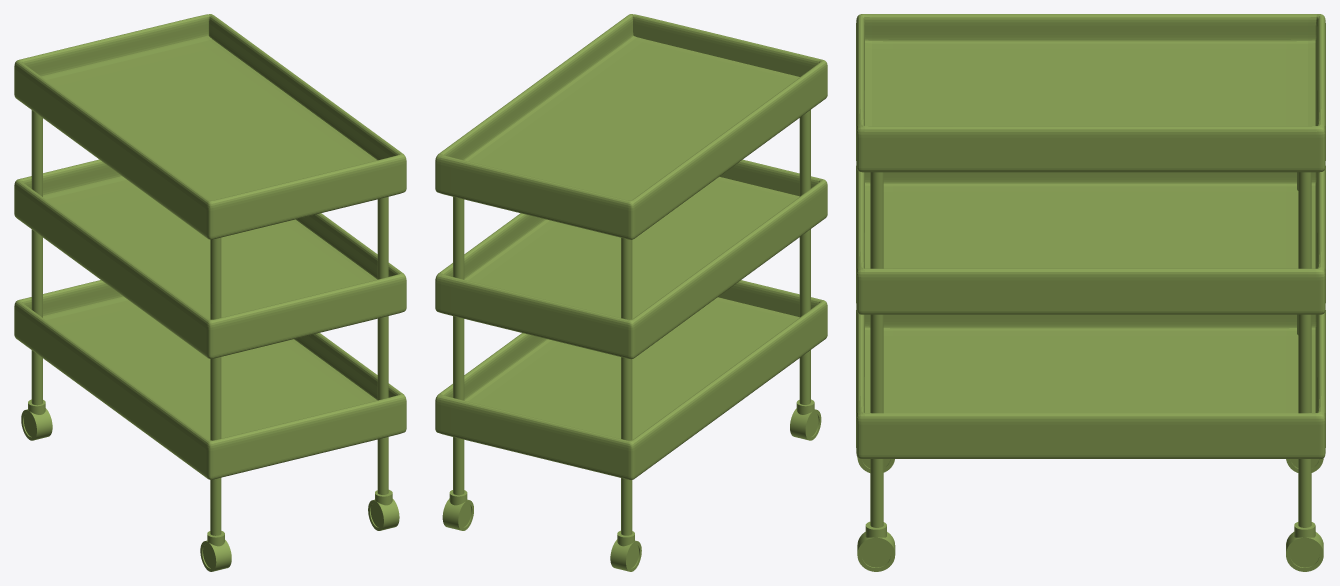
The model's file is Trolley.glb.
3 views of the same model, side by side, from view 1: azimuth 30°, elevation 25°; view 2: azimuth 150°, elevation 25°; view 3: azimuth 270°, elevation 25° (orthographic). The views are drawn at different scales.
Parts seen in each view (by area): view 1: pCube29, pCube32, pCube30, pCylinder3, pCylinder2, pCylinder4, pCylinder8_node_1, pCylinder8_node, pCylinder8; view 2: pCube29, pCube32, pCube30, pCylinder1, pCylinder4, pCylinder3, pCylinder8_node_1, pCylinder8, pCylinder8_node_0; view 3: pCube29, pCube32, pCube30, pCylinder2, pCylinder1, pCylinder8_node, pCylinder8_node_0.
Boxes of the visible parts, x1,y1,x2,y2 form: pCube29: (14,14,406,239); pCube32: (14,280,406,479); pCube30: (14,159,406,358); pCylinder3: (210,237,221,535); pCylinder2: (377,197,388,494); pCylinder4: (31,110,42,405); pCylinder8_node_1: (21,408,52,440); pCylinder8_node: (368,499,399,530); pCylinder8: (200,540,231,571); pCube29: (435,14,827,239); pCube32: (435,280,827,480); pCube30: (435,159,827,359); pCylinder1: (453,197,464,495); pCylinder4: (621,238,632,535); pCylinder3: (799,110,810,404); pCylinder8_node_1: (610,539,641,571); pCylinder8: (790,408,821,440); pCylinder8_node_0: (442,498,473,530); pCube29: (856,14,1325,172); pCube32: (856,309,1325,458); pCube30: (856,166,1325,314); pCylinder2: (870,172,883,527); pCylinder1: (1298,172,1311,527); pCylinder8_node: (857,532,895,571); pCylinder8_node_0: (1286,532,1323,571).
Bounding box in the file's own units: 2.16 × 3.89 × 3.69.
